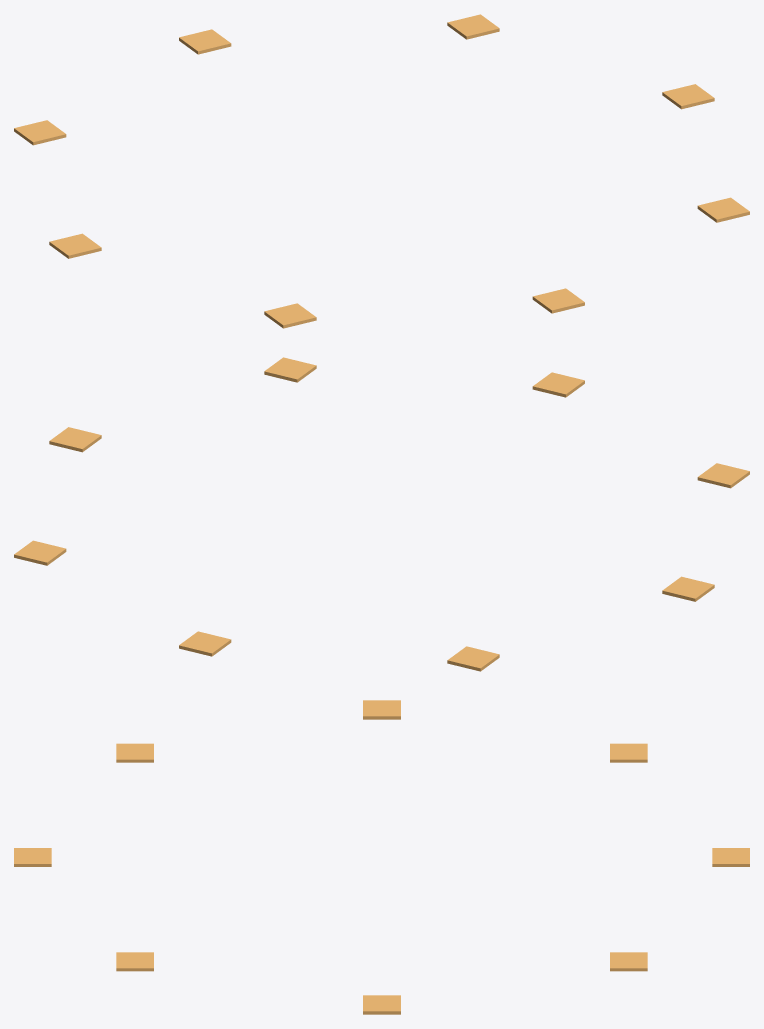
File: horror_safe_boundary.obj
The picture shows the model from 3 angles, top to bottom: view 1: azimuth 30°, elevation 25°; view 2: azimuth 150°, elevation 25°; view 3: azimuth 270°, elevation 25°; orthographic projection.
Visible parts, largest first — view 1: Marker0, Marker2, Marker4, Marker6, Marker1, Marker3, Marker5, Marker7; view 2: Marker0, Marker2, Marker4, Marker6, Marker1, Marker3, Marker5, Marker7; view 3: Marker0, Marker1, Marker3, Marker4, Marker5, Marker7, Marker2, Marker6.
Part boxes in pixels (left/top/right/bottom): Marker0: left=662, top=84, right=714, bottom=109; Marker2: left=532, top=288, right=584, bottom=313; Marker4: left=49, top=233, right=101, bottom=258; Marker6: left=179, top=29, right=231, bottom=54; Marker1: left=697, top=197, right=749, bottom=222; Marker3: left=264, top=303, right=316, bottom=328; Marker5: left=14, top=120, right=66, bottom=145; Marker7: left=447, top=14, right=499, bottom=39; Marker0: left=49, top=427, right=101, bottom=452; Marker2: left=532, top=372, right=584, bottom=397; Marker4: left=662, top=576, right=714, bottom=601; Marker6: left=179, top=631, right=231, bottom=656; Marker1: left=264, top=357, right=316, bottom=382; Marker3: left=697, top=463, right=749, bottom=488; Marker5: left=447, top=646, right=499, bottom=671; Marker7: left=14, top=540, right=66, bottom=565; Marker0: left=363, top=995, right=400, bottom=1014; Marker1: left=116, top=952, right=153, bottom=971; Marker3: left=116, top=743, right=153, bottom=762; Marker4: left=363, top=700, right=400, bottom=719; Marker5: left=610, top=743, right=647, bottom=762; Marker7: left=610, top=952, right=647, bottom=971; Marker2: left=14, top=848, right=51, bottom=866; Marker6: left=712, top=848, right=749, bottom=866.
Bounding box in the file's own units: 12.65 × 0.06 × 12.65.
